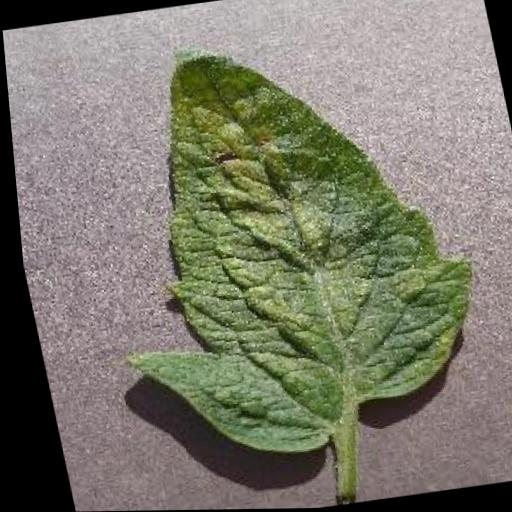Spider Mites: (63, 17, 499, 472)
